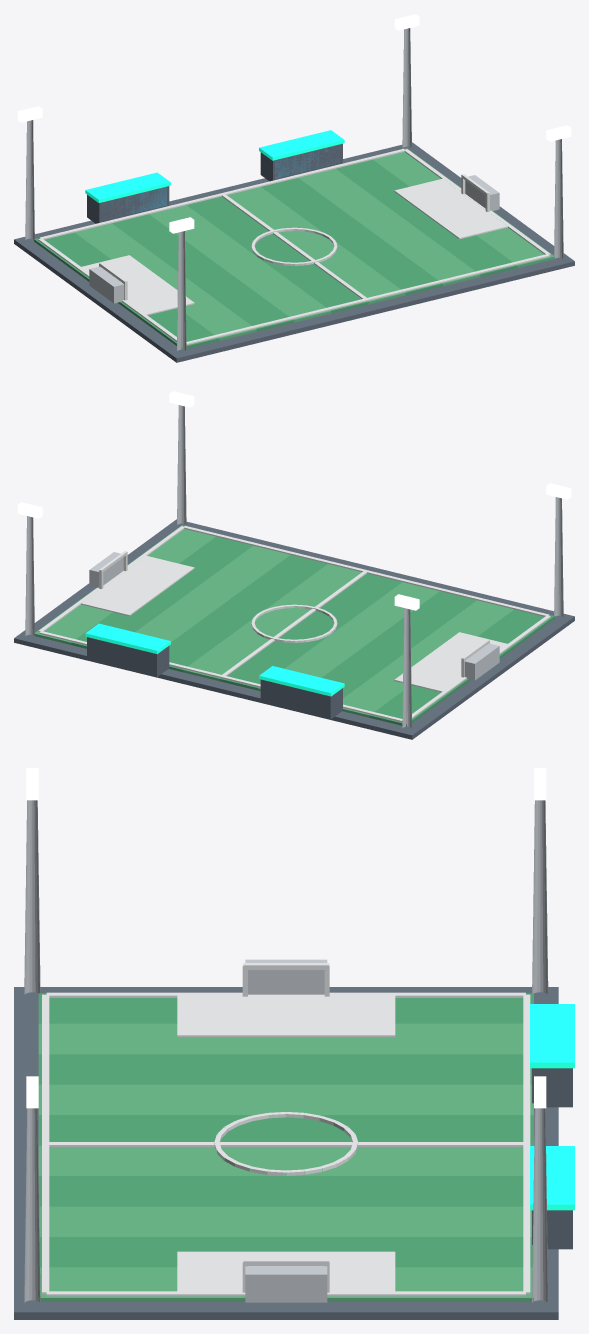
The model's file is first_team_pitch_alpha.master.glb.
3 views of the same model, one above another, from view 1: azimuth 30°, elevation 25°; view 2: azimuth 150°, elevation 25°; view 3: azimuth 270°, elevation 25° (orthographic). The views are drawn at different scales.
Visible parts, largest first — view 1: first_team_pitch_alpha_master; view 2: first_team_pitch_alpha_master; view 3: first_team_pitch_alpha_master.
Boxes of the visible parts, left/top/right/bottom form: first_team_pitch_alpha_master: left=14, top=14, right=574, bottom=362; first_team_pitch_alpha_master: left=14, top=391, right=574, bottom=739; first_team_pitch_alpha_master: left=14, top=768, right=574, bottom=1319.
Size of the model in its own units: 3.76 by 1.22 by 2.74.
